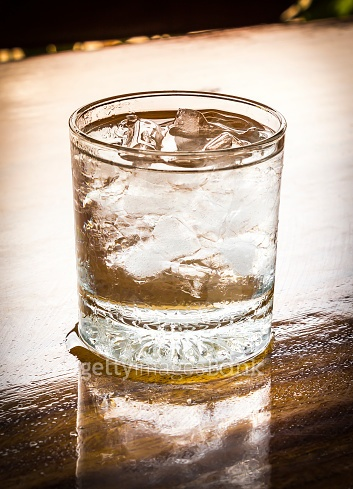glass of water: (68, 78, 288, 391)
